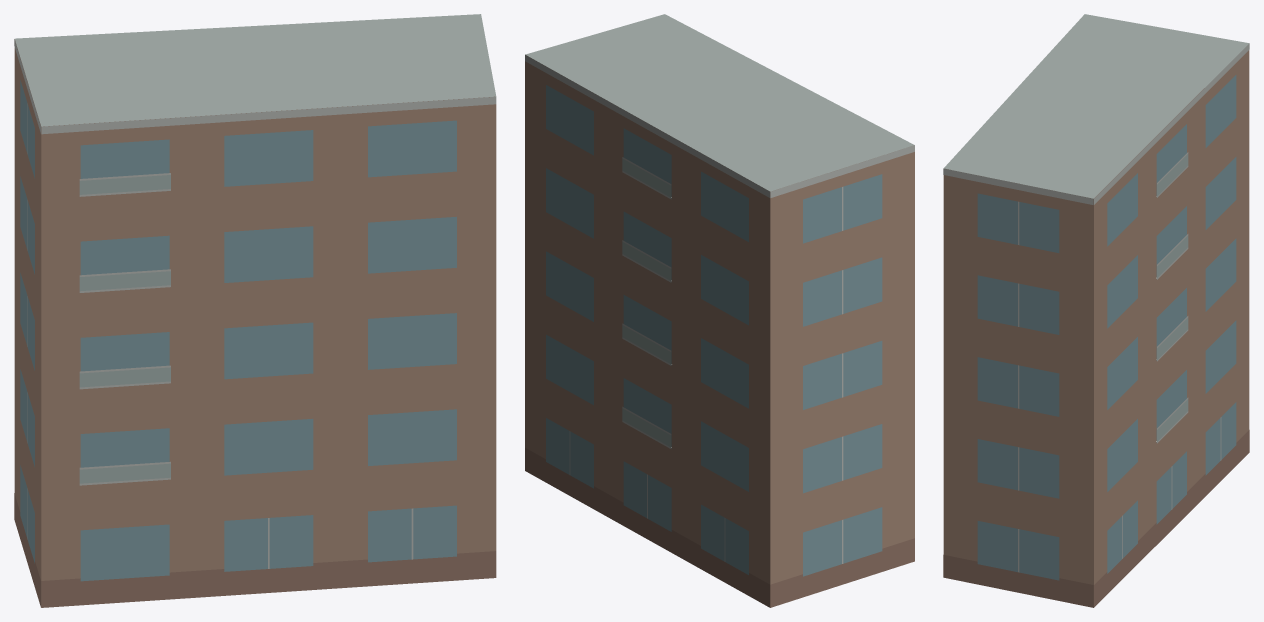
File: survey-upis-32490592.glb
3 views of the same model, side by side, from view 1: azimuth 30°, elevation 25°; view 2: azimuth 150°, elevation 25°; view 3: azimuth 270°, elevation 25° (orthographic). The views are drawn at different scales.
Parts seen in each view (by area): view 1: survey-upis-32490592.tmp; view 2: survey-upis-32490592.tmp; view 3: survey-upis-32490592.tmp.
Boxes of the visible parts, bbox=[...] form: survey-upis-32490592.tmp: bbox=[14, 14, 496, 607]; survey-upis-32490592.tmp: bbox=[525, 14, 914, 607]; survey-upis-32490592.tmp: bbox=[943, 14, 1249, 607].
Bounding box in the file's own units: 14.77 × 15.25 × 10.35.
